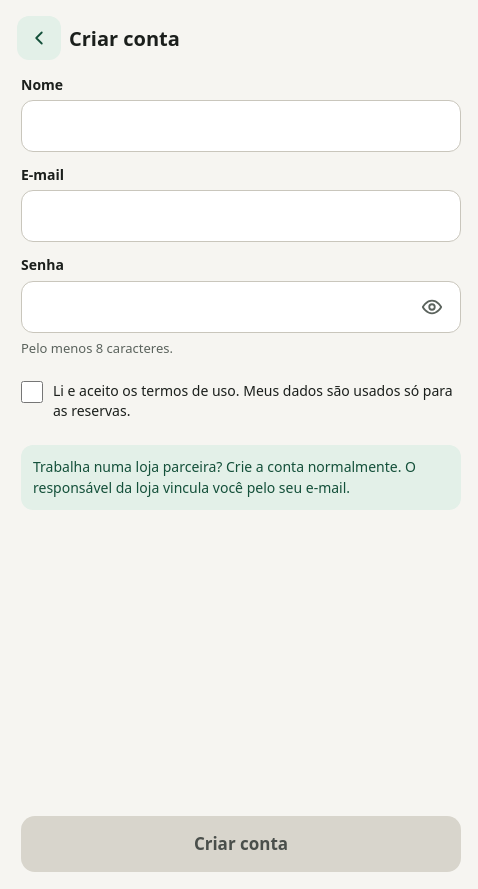
Test case: A3 · Criar conta › botão travado sem aceitar os termos
This screenshot has width=478, height=889.
Expected: the button "Criar conta" is disabled, [21,816,461,872]
Click the checkbox labelled "Li e aceito os termos" at (32, 392), box [21,381,43,403]
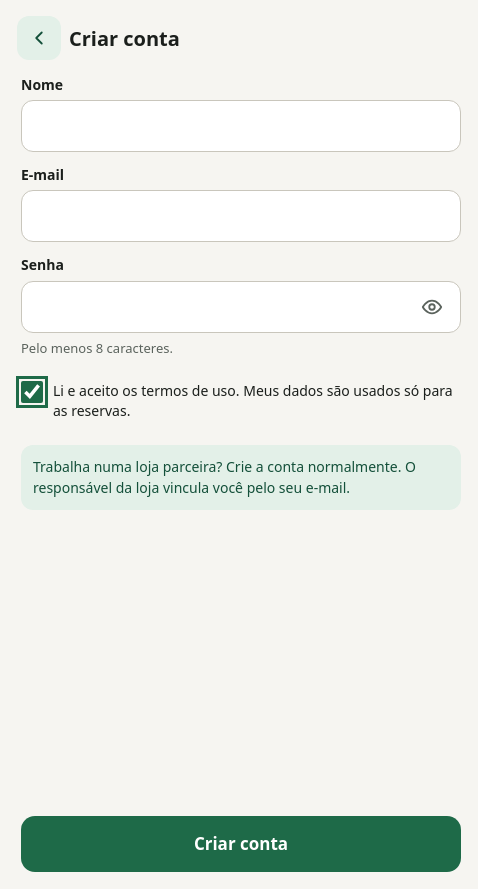
Now the button "Criar conta" is enabled, box [21,816,461,872]
